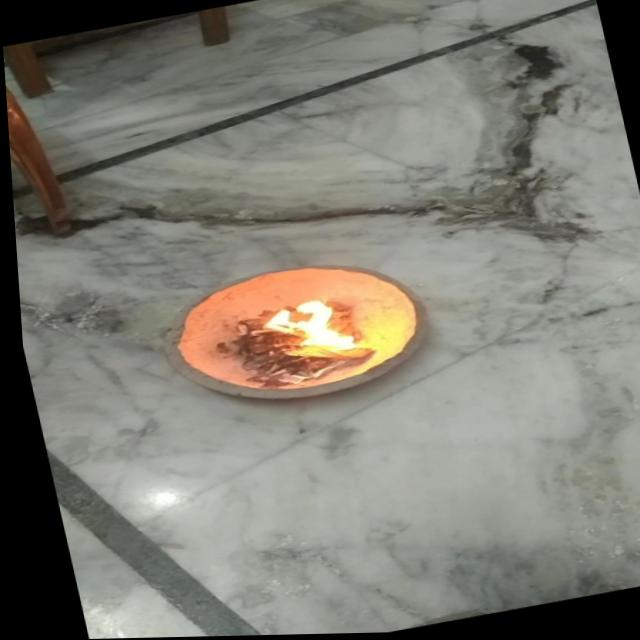fire: (252, 289, 359, 371)
